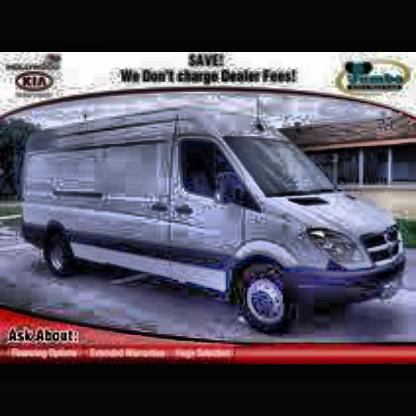Dodge Sprinter Cargo Van 2009: (14, 106, 416, 341)
